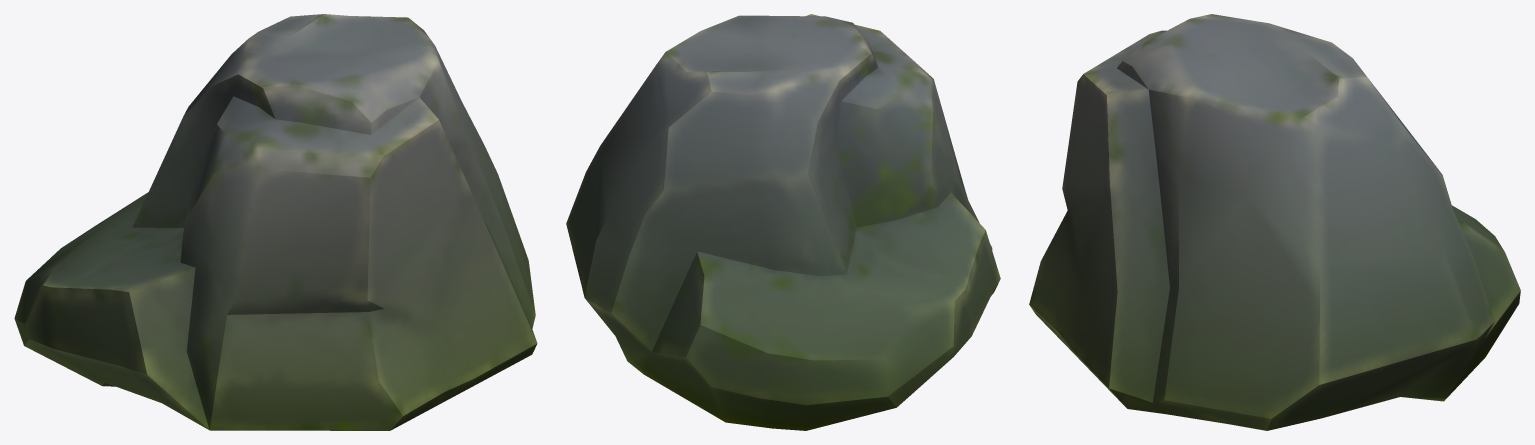
File: rock_medium_1.glb
3 views of the same model, side by side, from view 1: azimuth 30°, elevation 25°; view 2: azimuth 150°, elevation 25°; view 3: azimuth 270°, elevation 25° (orthographic). The views are drawn at different scales.
Bounding box in the file's own units: 3.23 × 2.26 × 2.99.
1 material, 1 textured.
